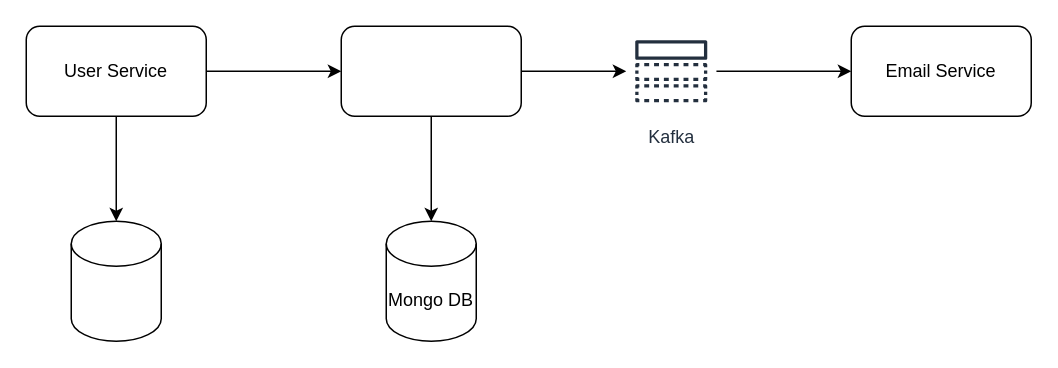
The diagram is 1058 pixels wide and 368 high, and some of its shapes have lost their labels. Each missing label, with the centre of its shape:
Postgres: the point at 115,280
Report Service: the point at 430,70
